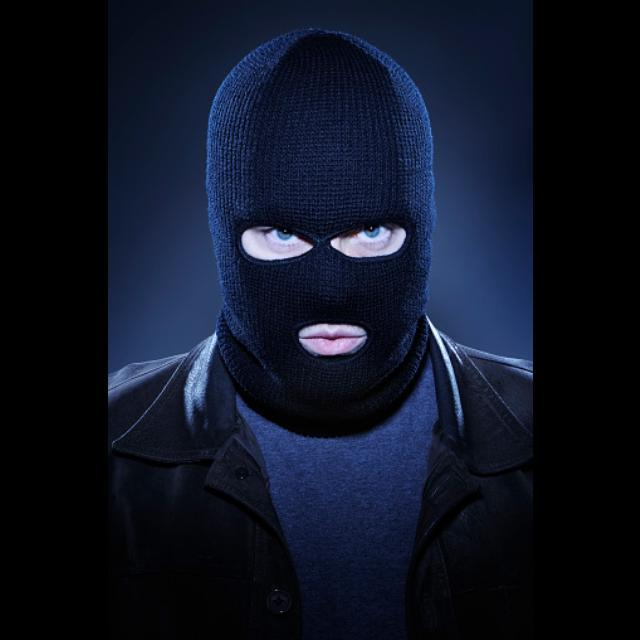criminal: (107, 26, 535, 640)
